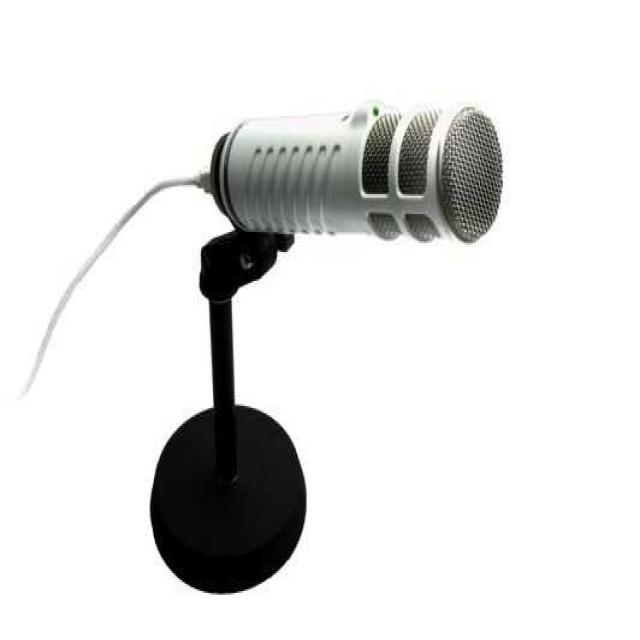microphone: (212, 97, 504, 246)
